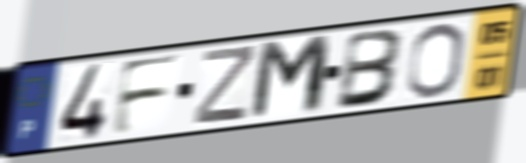4: (57, 60, 109, 143)
B: (333, 27, 407, 113)
F: (108, 51, 185, 139)
M: (247, 32, 335, 125)
O: (404, 21, 466, 101)
Z: (191, 42, 259, 126)
